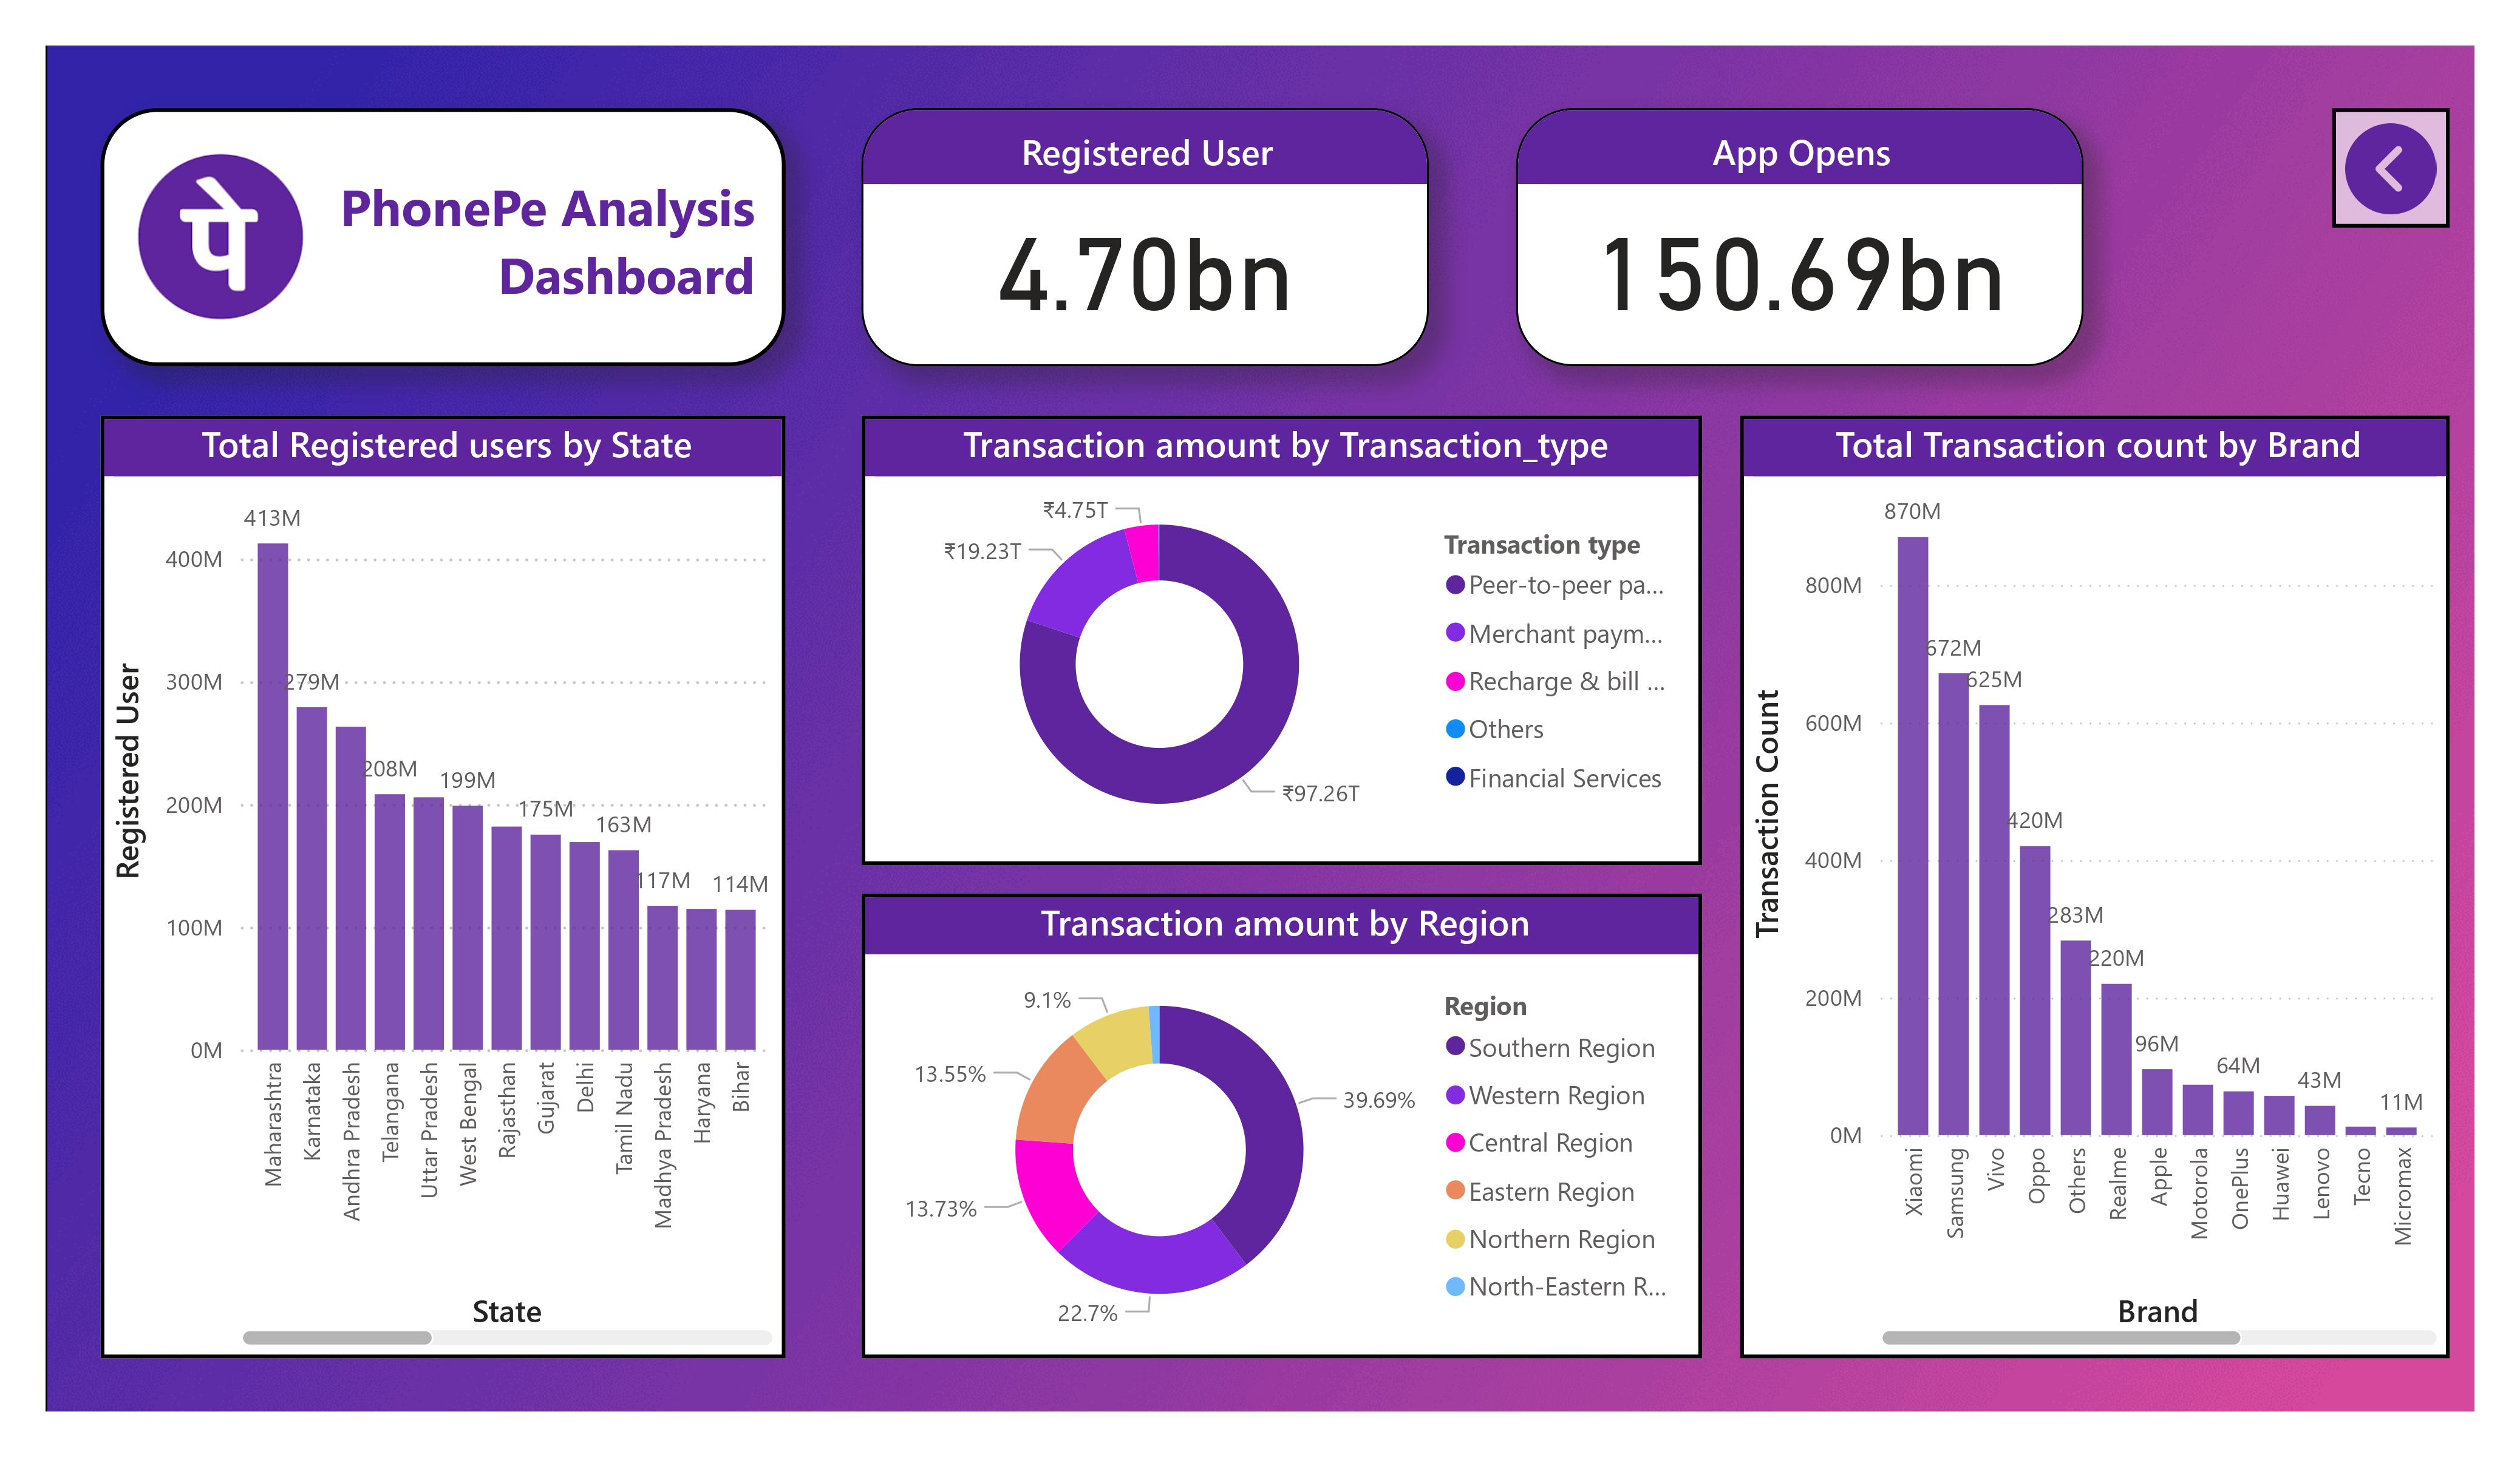

The dashboard page shown, as its layout file describes it:
{"tool":"powerbi","page":{"name":"Page 2","canvas":[1280,720],"ordinal":1},"visuals":[{"type":"textbox","box":[28.8,32.9,360.9,135.8],"z":0,"group":"g1"},{"type":"columnChart","title":"Total Registered users by State","fields":{"Category":["top_user_dist.State"],"Y":["Sum(top_user_dist.Registered_users)"]},"box":[28.8,194.9,360.9,496.7],"z":0},{"type":"image","box":[41.4,46.7,101.5,107],"z":1000,"group":"g1"},{"type":"columnChart","title":"Total Transaction count by Brand","fields":{"Category":["agg_user.Brand"],"Y":["Sum(agg_user.Transaction_count)"]},"box":[893.3,194.9,373.2,496.7],"z":1000},{"type":"donutChart","title":"Transaction amount by Region","fields":{"Category":["agg_trans.Region"],"Y":["Sum(agg_trans.Transaction_amount)"]},"box":[429.5,447.3,443.2,244.3],"z":2000},{"type":"donutChart","title":"Transaction amount by Transaction_type","fields":{"Y":["Sum(agg_trans.Transaction_amount)"],"Category":["agg_trans.Transaction_type"]},"box":[429.5,194.9,443.2,237.4],"z":3000},{"type":"card","title":"App Opens","fields":{"Values":["Sum(map_user.App_opens)"]},"box":[775.3,32.9,299.1,135.8],"z":4000},{"type":"card","title":"Registered User","fields":{"Values":["Sum(map_user.Registered_users)"]},"box":[429.5,32.9,299.1,135.8],"z":5000},{"type":"image","box":[1204.8,32.9,61.7,63.1],"z":6000},{"type":"group","id":"g1","title":"Group 1","box":[28.8,32.9,360.9,135.8],"z":7000}]}

Visuals, with their boxes in screenshot pixels (x1, y1, x2, y2):
textbox: <region>100, 108, 785, 365</region>
"Total Registered users by State" columnChart: <region>100, 415, 785, 1357</region>
image: <region>124, 134, 317, 337</region>
"Total Transaction count by Brand" columnChart: <region>1741, 415, 2449, 1357</region>
"Transaction amount by Region" donutChart: <region>860, 894, 1701, 1357</region>
"Transaction amount by Transaction_type" donutChart: <region>860, 415, 1701, 866</region>
"App Opens" card: <region>1517, 108, 2085, 365</region>
"Registered User" card: <region>860, 108, 1428, 365</region>
image: <region>2332, 108, 2449, 228</region>
"Group 1" group: <region>100, 108, 785, 365</region>
